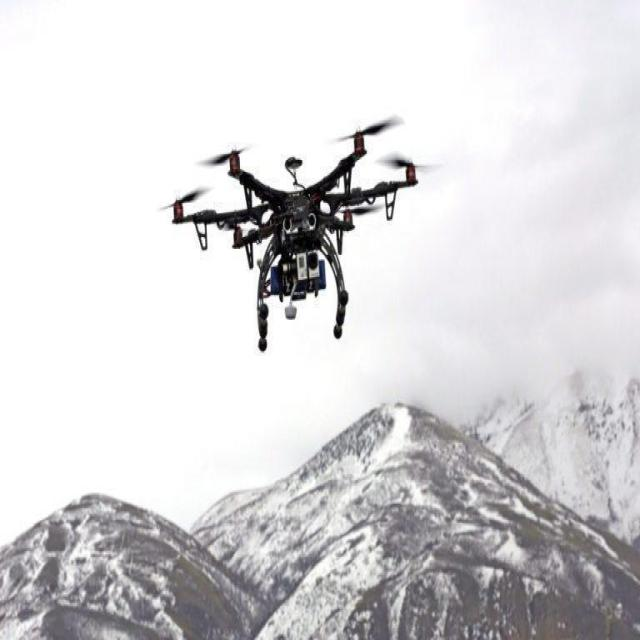drone: (172, 128, 420, 355)
